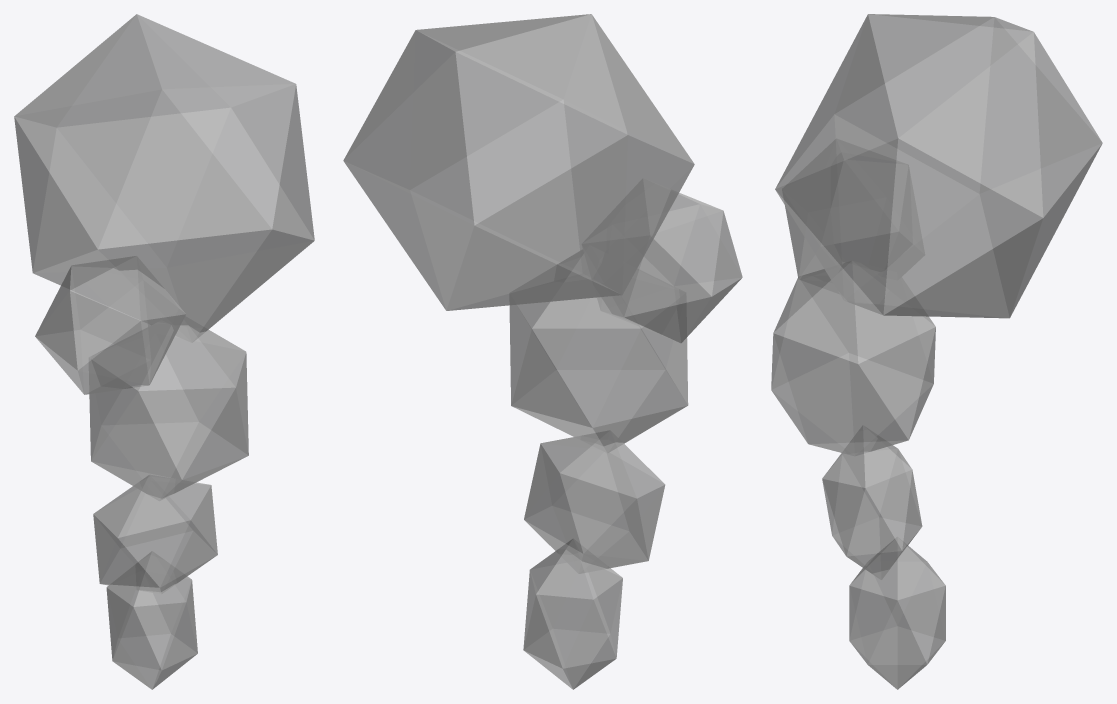
Rendered from smoke.glb.
The picture shows the model from 3 angles, left to right: view 1: azimuth 30°, elevation 25°; view 2: azimuth 150°, elevation 25°; view 3: azimuth 270°, elevation 25°; orthographic projection. The views are drawn at different scales.
Visible parts, largest first — view 1: Object_2; view 2: Object_2; view 3: Object_2.
Part boxes in pixels (x1,y1,x2,y2): Object_2: [14, 14, 314, 689]; Object_2: [343, 14, 742, 689]; Object_2: [771, 14, 1102, 689].
Size of the model in its own units: 6.25 by 13.28 by 5.85.
Materials: 1 (1 with a texture image).
